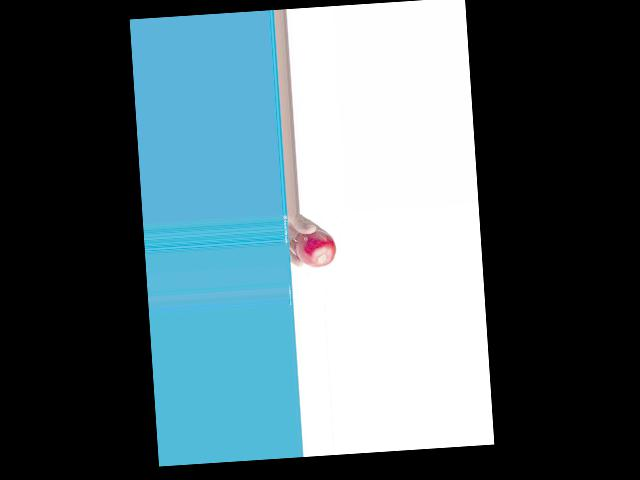tomato: (294, 228, 336, 268)
